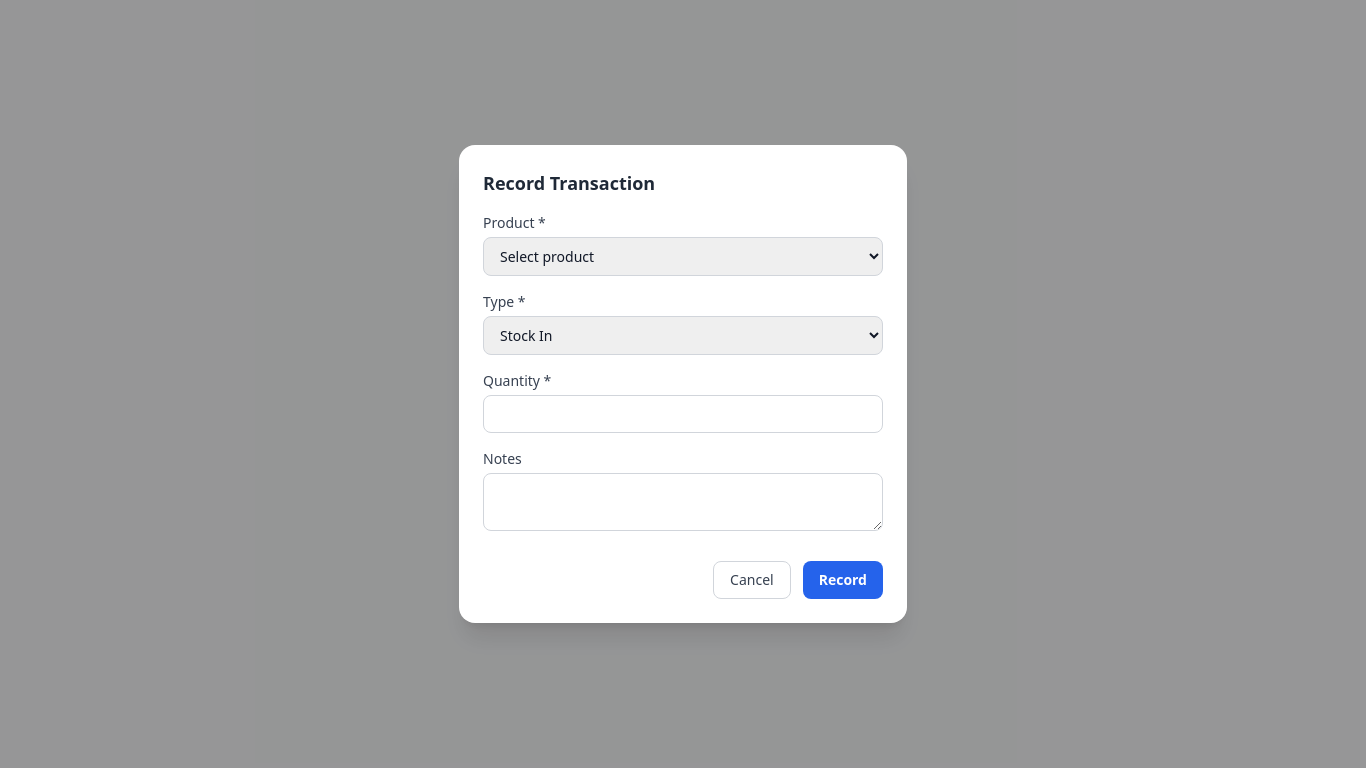
Test: TransactionForm Validation › shows error for missing product on submit
Type "10" into the number field labelled "Quantity *" at coordinates (683, 414), box [483,395,883,433]
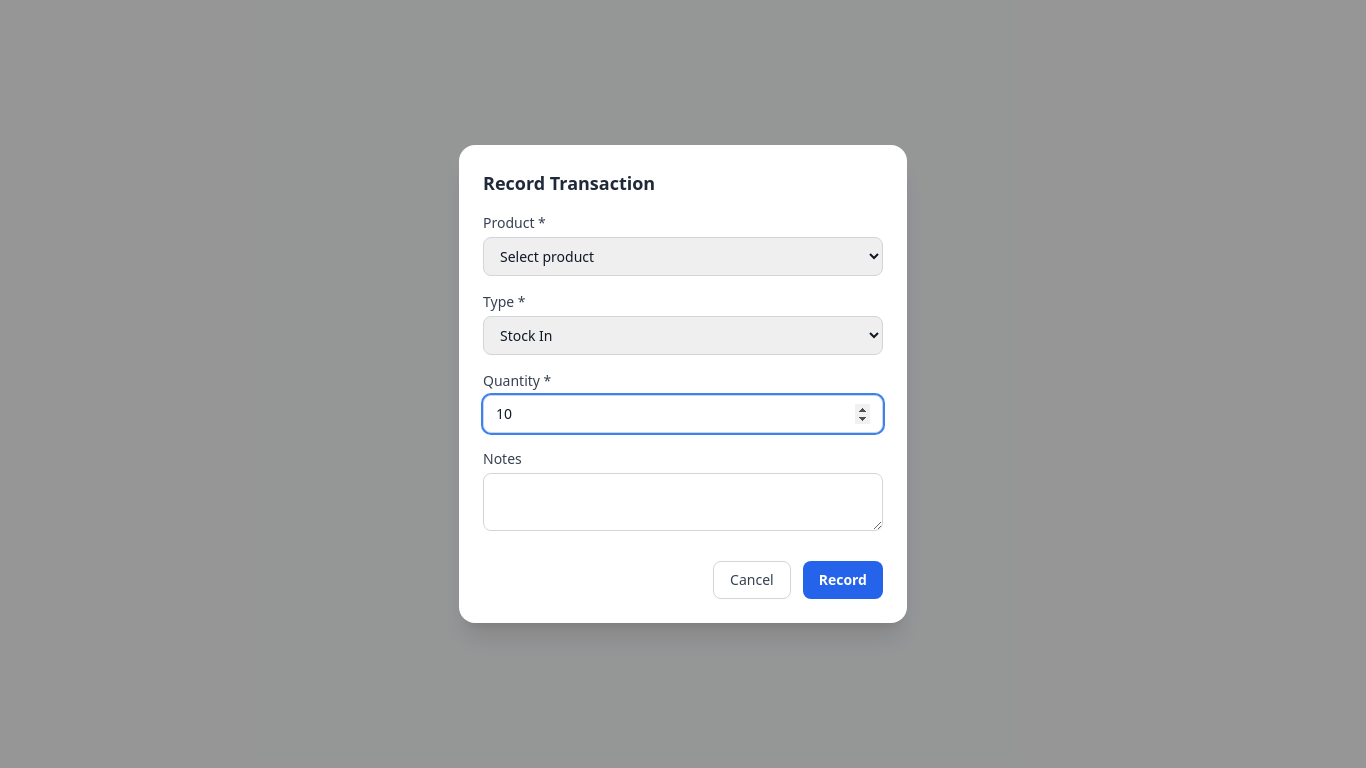
Click the button "Record" at coordinates (843, 580), box [803,561,883,599]
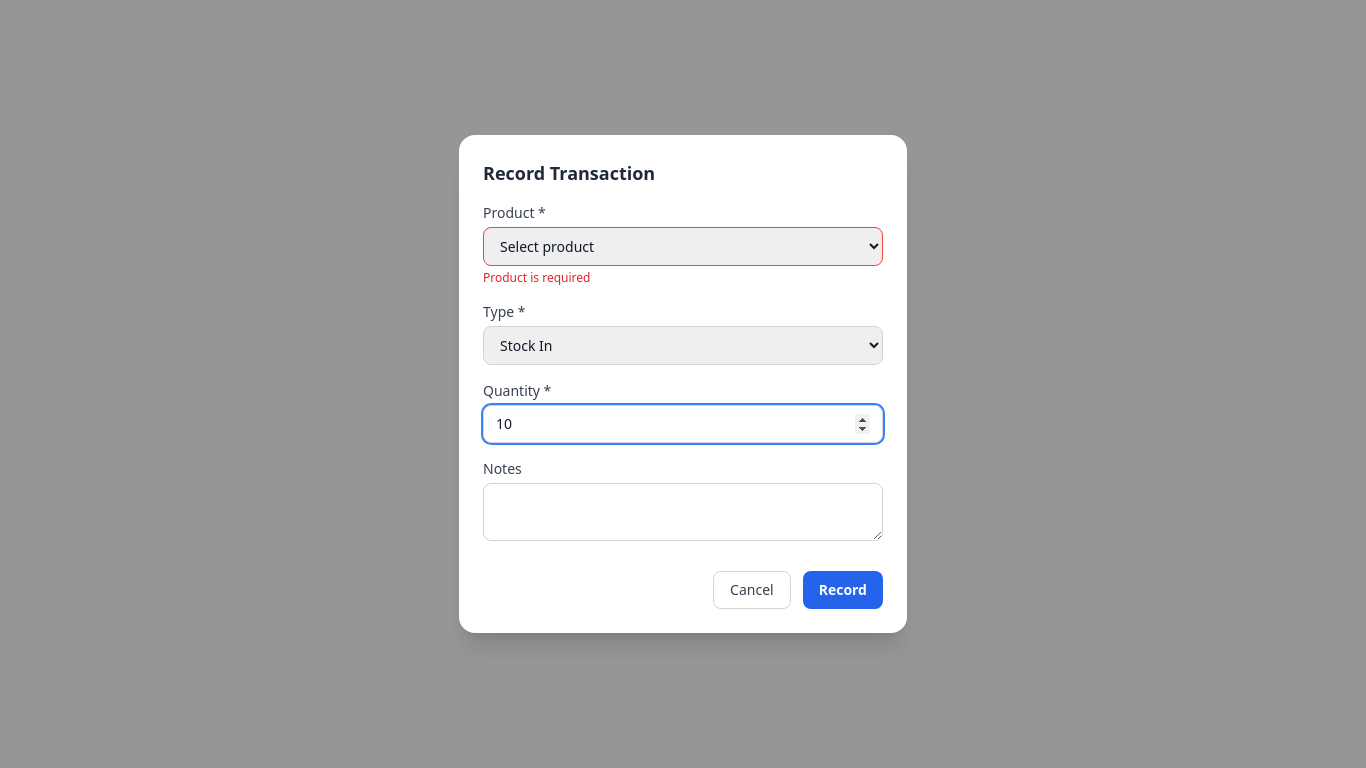
Expected: the text "Product is required" is shown, [483,269,590,286]
